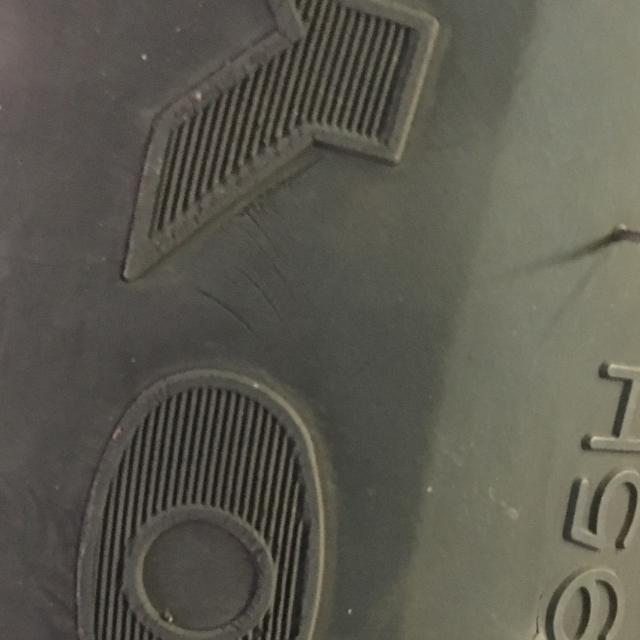Cracks: (168, 142, 328, 349)
Non-defective: (340, 14, 640, 640), (4, 360, 294, 640)
